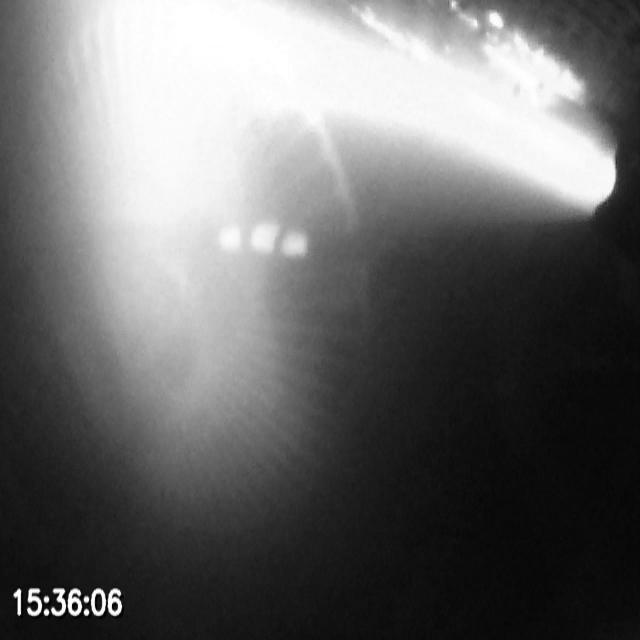white-dots: (216, 221, 310, 259)
